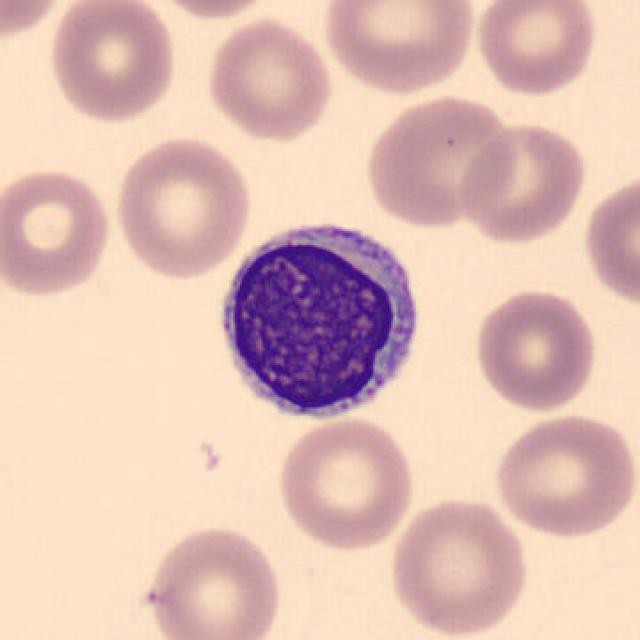Lymphocyte: (206, 208, 428, 430)
RBC: (110, 132, 256, 282), (361, 92, 517, 231), (386, 492, 532, 638), (272, 414, 418, 552), (489, 411, 638, 539), (203, 14, 336, 145), (139, 522, 286, 640), (455, 118, 590, 245), (44, 0, 180, 125), (469, 286, 601, 414), (0, 164, 116, 300), (318, 0, 480, 97), (471, 0, 601, 99), (579, 167, 640, 312), (140, 0, 286, 21), (0, 0, 69, 44)
